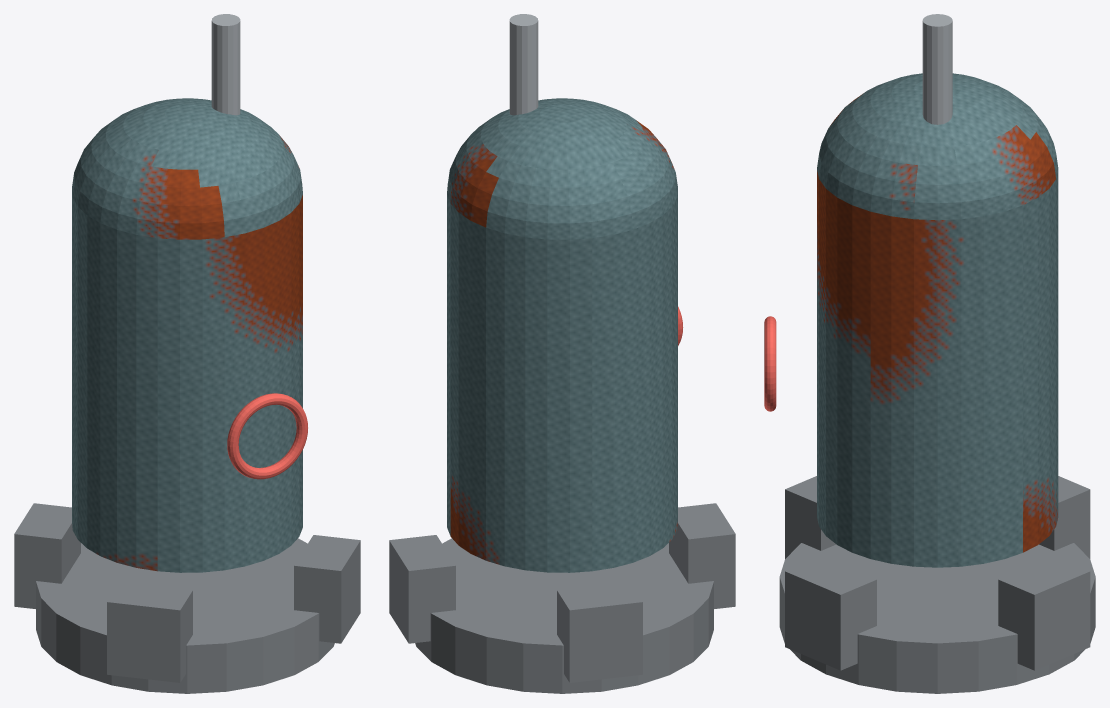
File: prop_pressure_tank.glb
3 views of the same model, side by side, from view 1: azimuth 30°, elevation 25°; view 2: azimuth 150°, elevation 25°; view 3: azimuth 270°, elevation 25° (orthographic). The views are drawn at different scales.
Visible parts, largest first — view 1: Cylinder.001, Sphere, Cylinder, Cube.002, Cube.003, Cube.001, Cylinder.002, Torus; view 2: Cylinder.001, Sphere, Cylinder, Cube.001, Cube, Cube.002, Cylinder.002; view 3: Cylinder.001, Sphere, Cylinder, Cube, Cube.003, Cylinder.002, Cube.001, Cube.002, Torus.
Part boxes in pixels (left/top/right/bottom): Cylinder.001: left=72, top=191, right=302, bottom=572; Sphere: left=72, top=98, right=302, bottom=239; Cylinder: left=36, top=538, right=334, bottom=693; Cube.002: left=107, top=582, right=192, bottom=682; Cube.003: left=294, top=535, right=360, bottom=643; Cube.001: left=14, top=503, right=80, bottom=608; Cylinder.002: left=211, top=14, right=240, bottom=115; Torus: left=227, top=393, right=307, bottom=479; Cylinder.001: left=447, top=191, right=677, bottom=572; Sphere: left=447, top=98, right=677, bottom=239; Cylinder: left=415, top=538, right=713, bottom=693; Cube.001: left=557, top=582, right=642, bottom=682; Cube: left=389, top=535, right=455, bottom=643; Cube.002: left=669, top=503, right=735, bottom=608; Cylinder.002: left=509, top=14, right=538, bottom=115; Cylinder.001: left=817, top=171, right=1058, bottom=567; Sphere: left=817, top=73, right=1058, bottom=220; Cylinder: left=779, top=543, right=1095, bottom=693; Cube: left=998, top=556, right=1090, bottom=670; Cube.003: left=785, top=556, right=876, bottom=670; Cylinder.002: left=922, top=14, right=952, bottom=124; Cube.001: left=1039, top=476, right=1090, bottom=558; Cube.002: left=785, top=476, right=835, bottom=558; Torus: left=764, top=316, right=776, bottom=411.
Size of the model in its own units: 1.36 by 2.98 by 1.43.
Materials: 4 (1 with a texture image).
